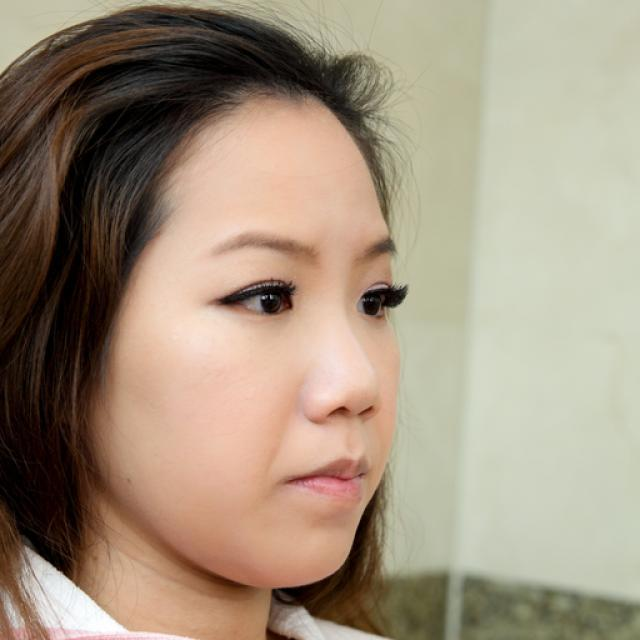neutral: (91, 105, 402, 589)
